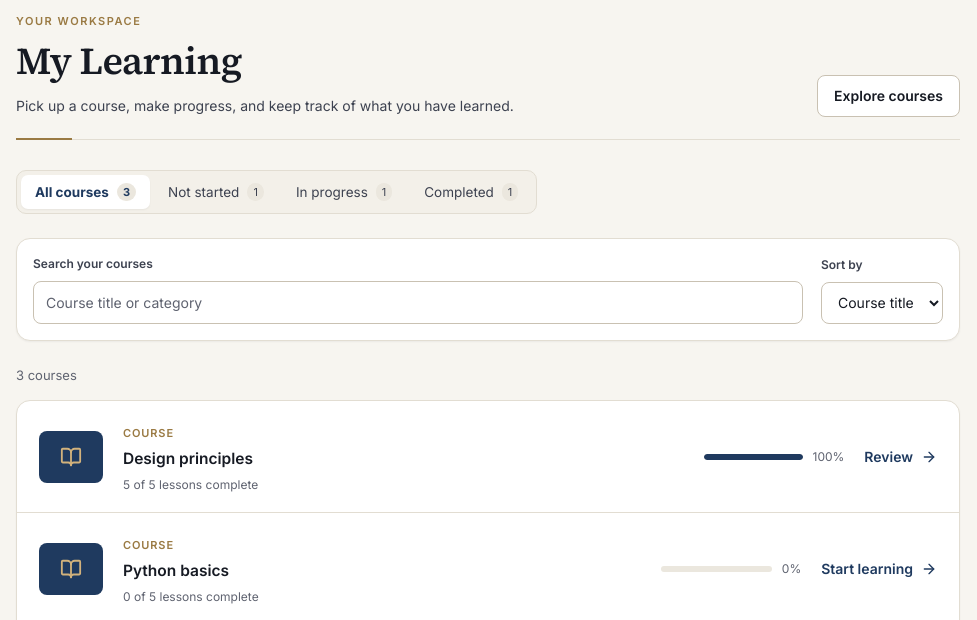
Test: searches the enrolled list and shows an honest empty result
Type "python" into the search field at coordinates (418, 302), box [33, 281, 803, 324]
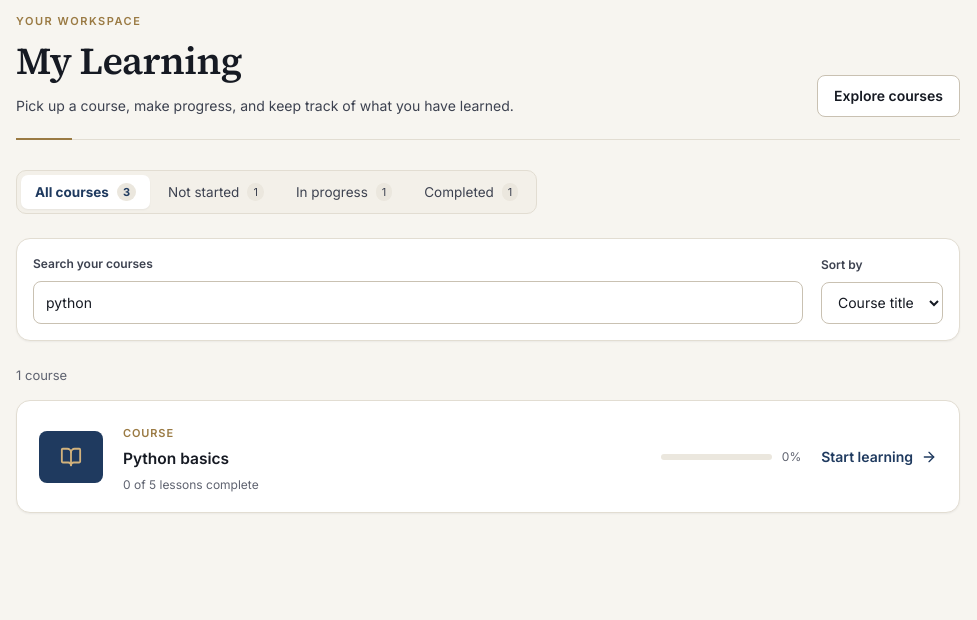
Expected: the link "Python basics" is shown, [123, 449, 229, 468]
Replace the text in the search field with "does not exist" at coordinates (418, 302), box [33, 281, 803, 324]
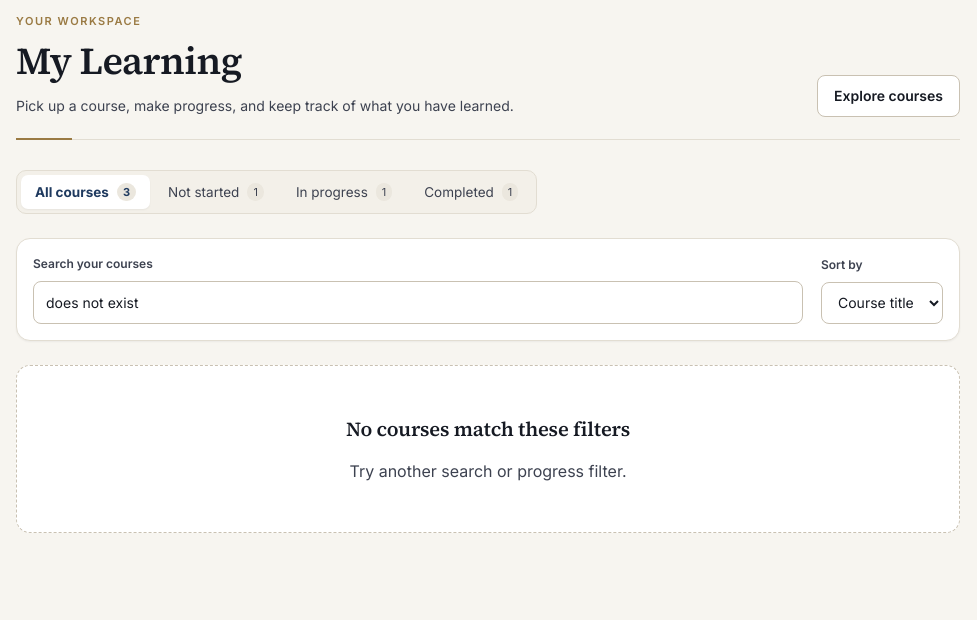
Expected: the heading "No courses match these filters" is shown, [346, 414, 630, 444]
